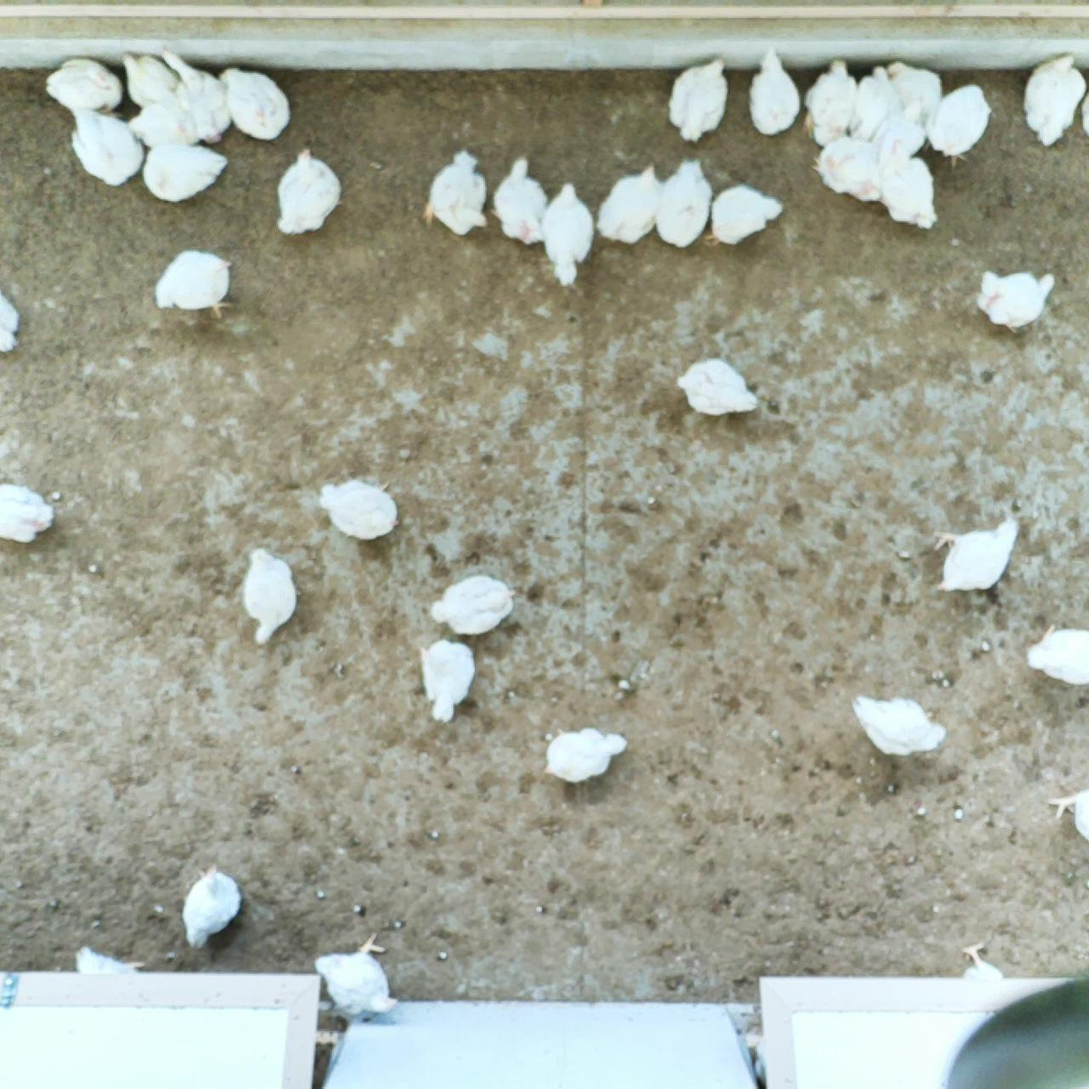chicken: (313, 935, 405, 1022), (158, 49, 233, 148), (136, 126, 228, 202), (929, 515, 1019, 592), (1021, 50, 1089, 151), (411, 634, 480, 730), (426, 566, 520, 635), (971, 263, 1060, 335), (68, 103, 144, 187), (237, 545, 300, 645), (647, 155, 714, 249), (663, 57, 735, 144), (421, 149, 492, 237), (274, 148, 345, 236), (849, 696, 948, 758), (176, 859, 244, 949), (872, 140, 938, 231), (543, 721, 635, 786), (592, 161, 659, 249), (799, 57, 860, 151), (927, 82, 997, 163), (544, 178, 596, 287), (152, 249, 237, 314), (312, 480, 401, 542), (215, 67, 289, 140), (492, 148, 548, 243), (674, 357, 762, 417), (706, 179, 781, 248), (814, 134, 881, 210), (746, 43, 802, 132), (48, 58, 124, 119), (1022, 622, 1089, 689), (845, 61, 899, 141), (0, 476, 58, 542), (127, 92, 199, 145), (868, 103, 929, 164), (883, 57, 941, 117), (118, 46, 175, 103), (70, 947, 147, 981), (1049, 786, 1089, 845), (956, 939, 999, 987), (0, 295, 23, 354)
